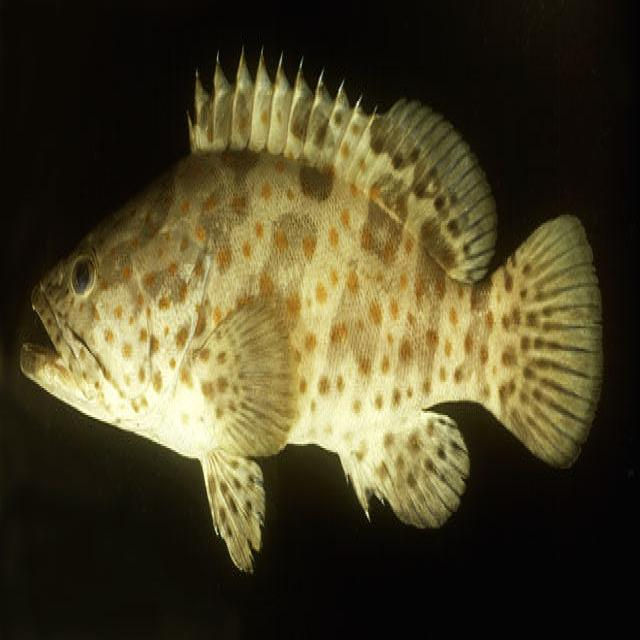ikan: (17, 35, 618, 587)
